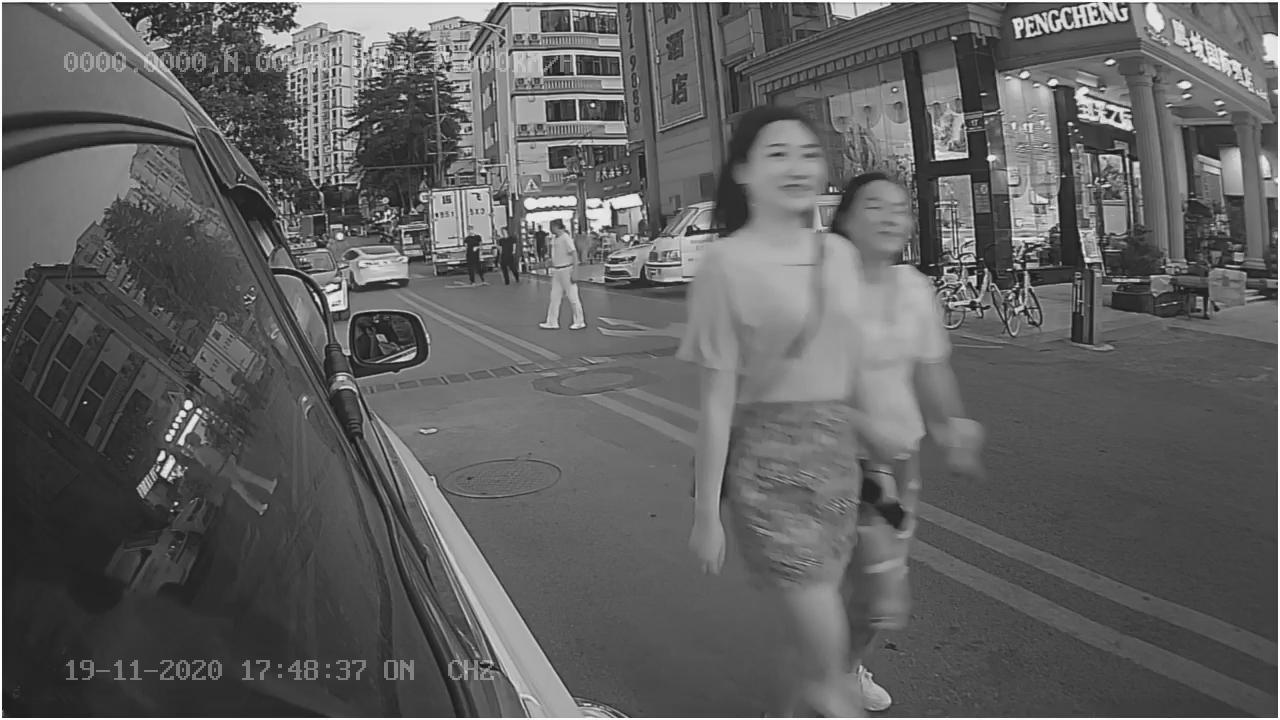person: (687, 109, 919, 682)
